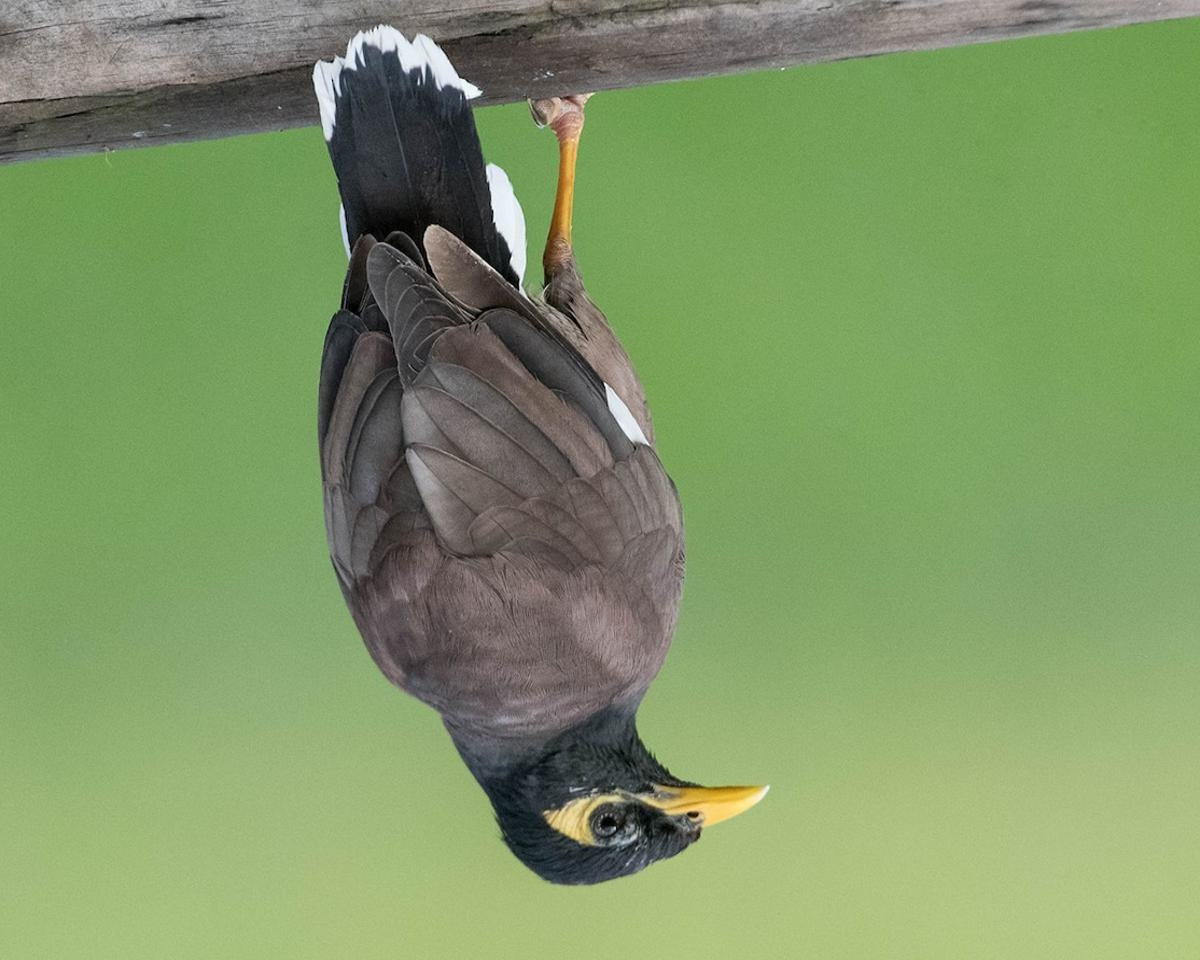myna: (270, 46, 860, 951)
